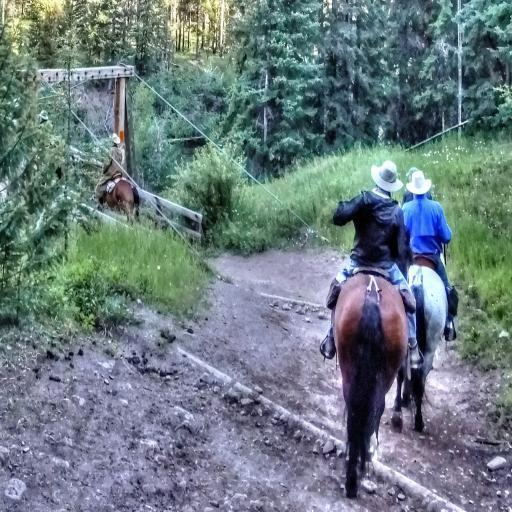horse: (329, 266, 410, 502), (388, 243, 448, 437), (95, 175, 145, 226)
